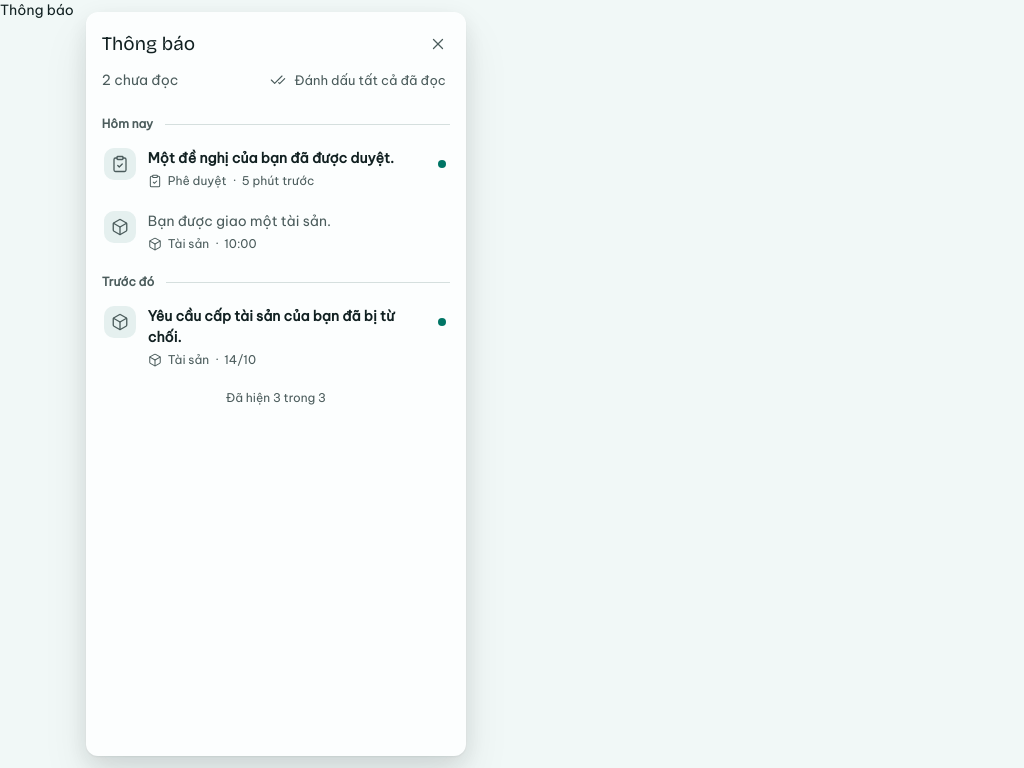
Scenario: NotificationPanel › "Đánh dấu tất cả đã đọc" marks everything and is off when nothing is unread
Expected: the text "Một đề nghị của bạn đã được duyệt." is shown, [148,148,422,169]
Click the button "Đánh dấu tất cả đã đọc" at (358, 80), box [258,65,458,95]
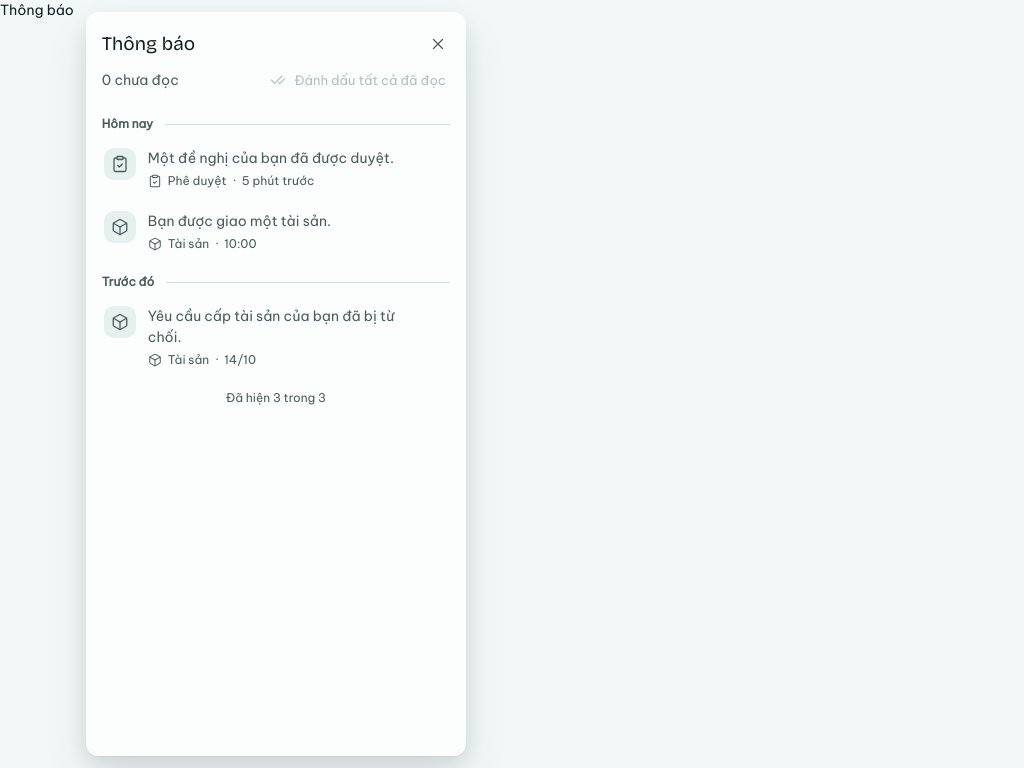
Expected: the text "0 chưa đọc" is shown, [102,70,179,90]
Expected: the button "Đánh dấu tất cả đã đọc" is disabled, [258,65,458,95]
